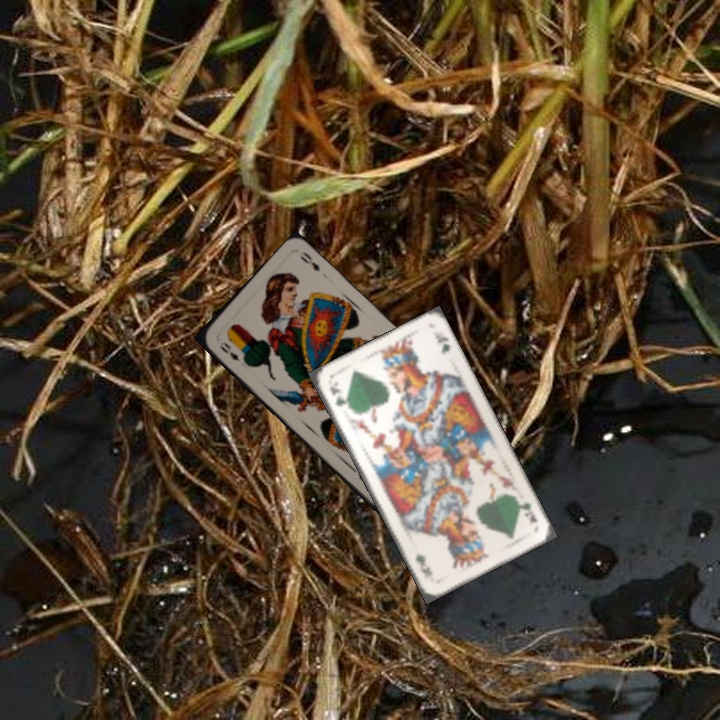EO: (215, 338, 242, 364)
GK: (512, 494, 540, 526), (325, 383, 349, 410)
